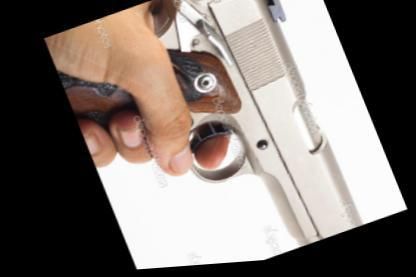pistol: (39, 0, 375, 273)
